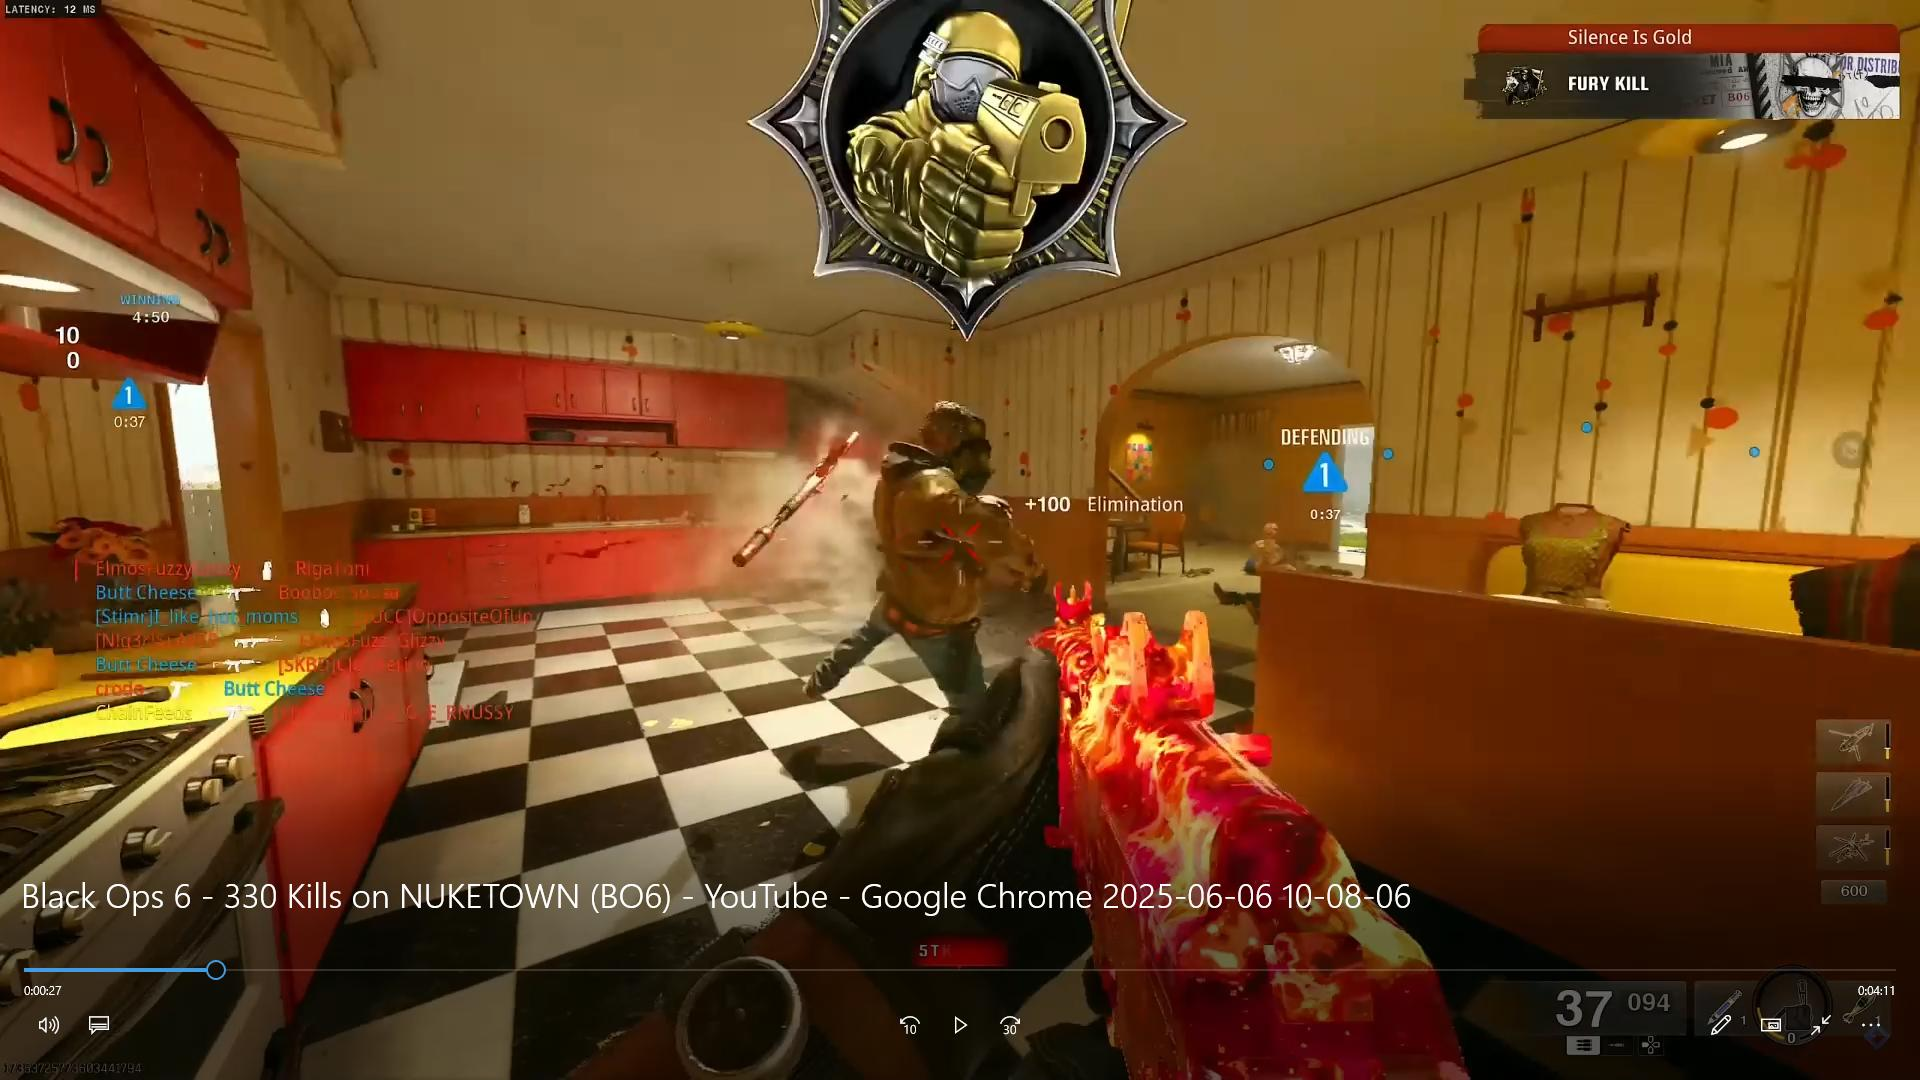Enemy: (844, 390, 1046, 680)
